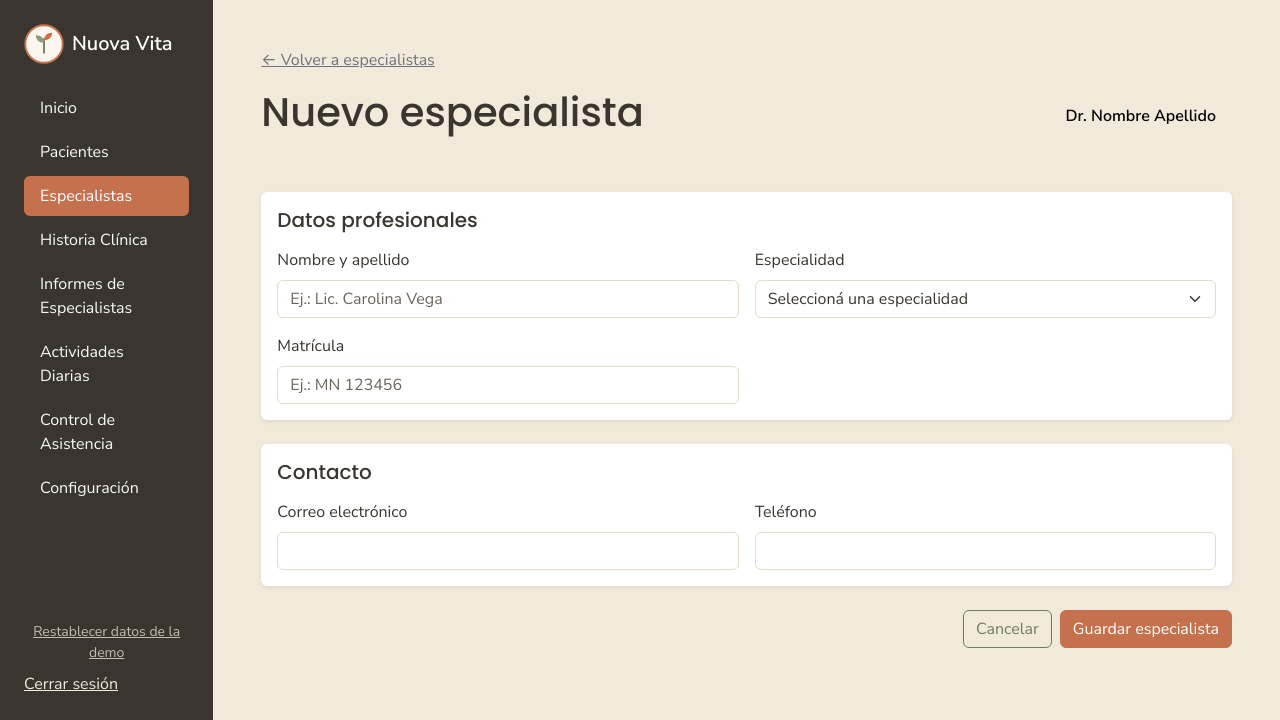
Scenario: alta de especialista › guarda el especialista (POST) normalizando matrícula y correo
Type "Lic. Sofía Paz" into the field labelled "Nombre y apellido" at [508, 299], box [277,280,739,318]
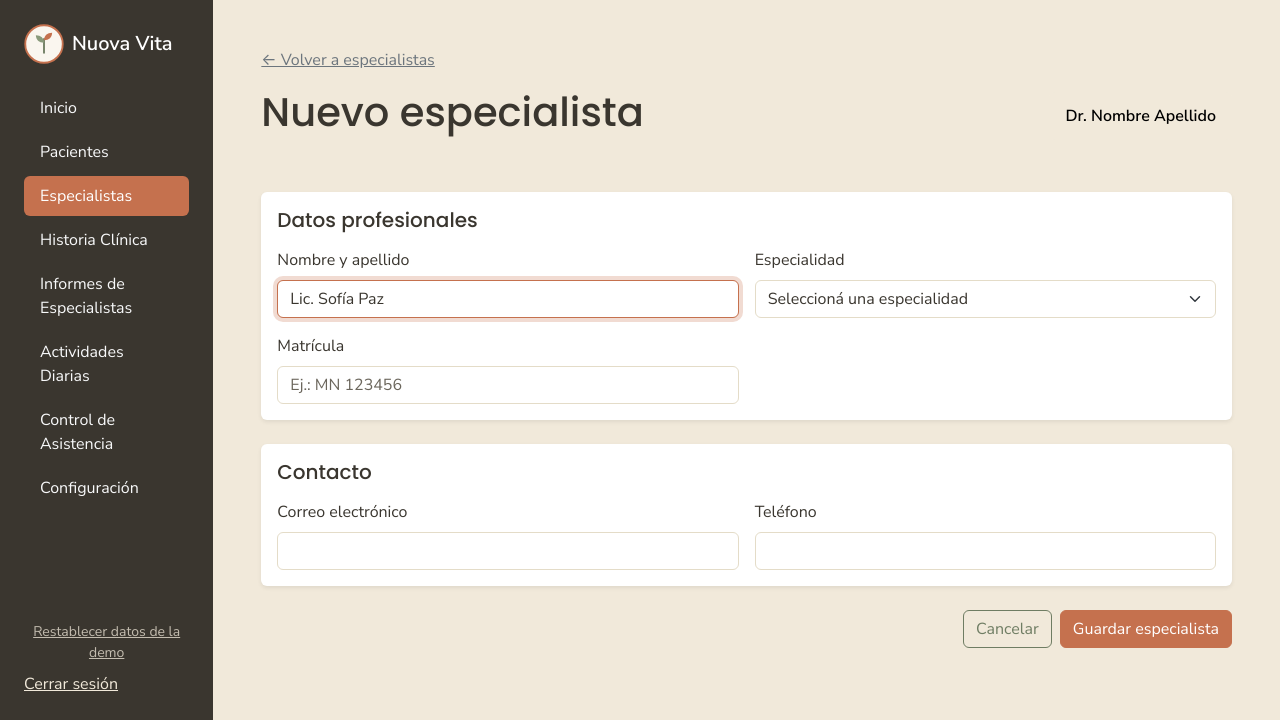
Select "Fonoaudiología" in the dropdown labelled "Especialidad" at [985, 299], box [755,280,1216,318]
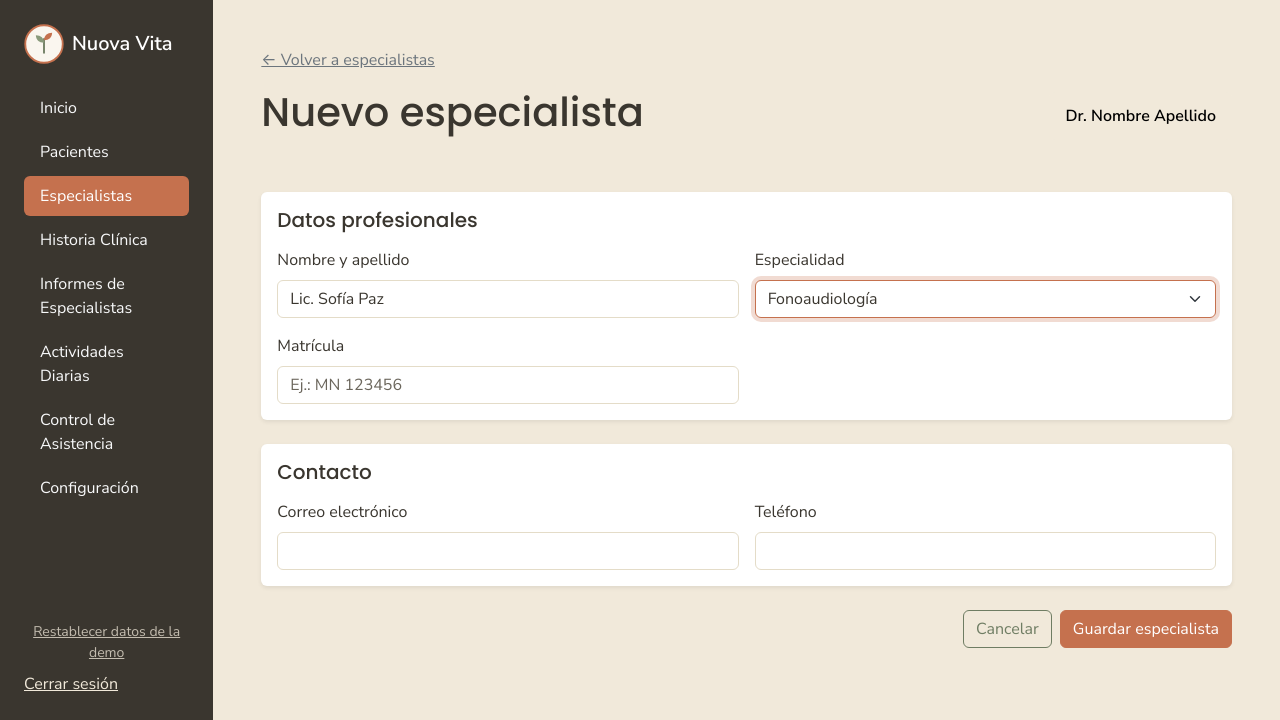
Type "mp 54321" into the field labelled "Matrícula" at [508, 385], box [277,366,739,404]
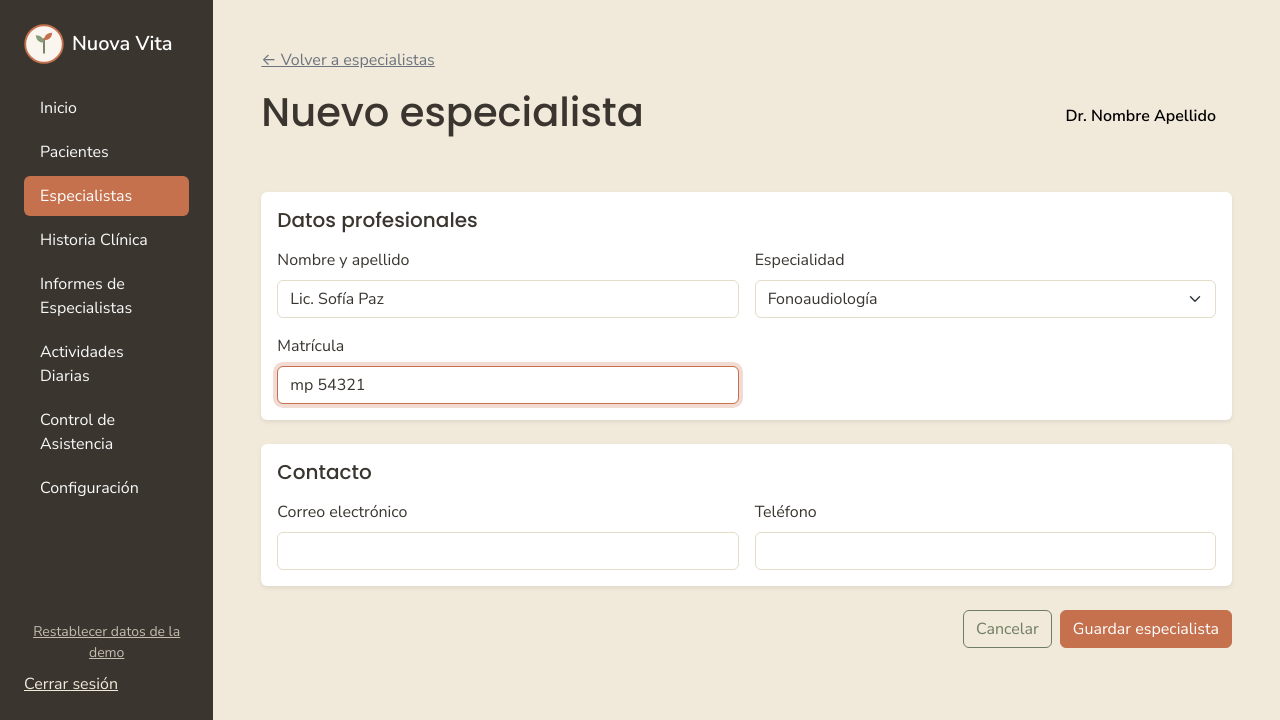
Type "SPAZ@nuovavita.com" into the field labelled "Correo electrónico" at [508, 551], box [277,532,739,570]
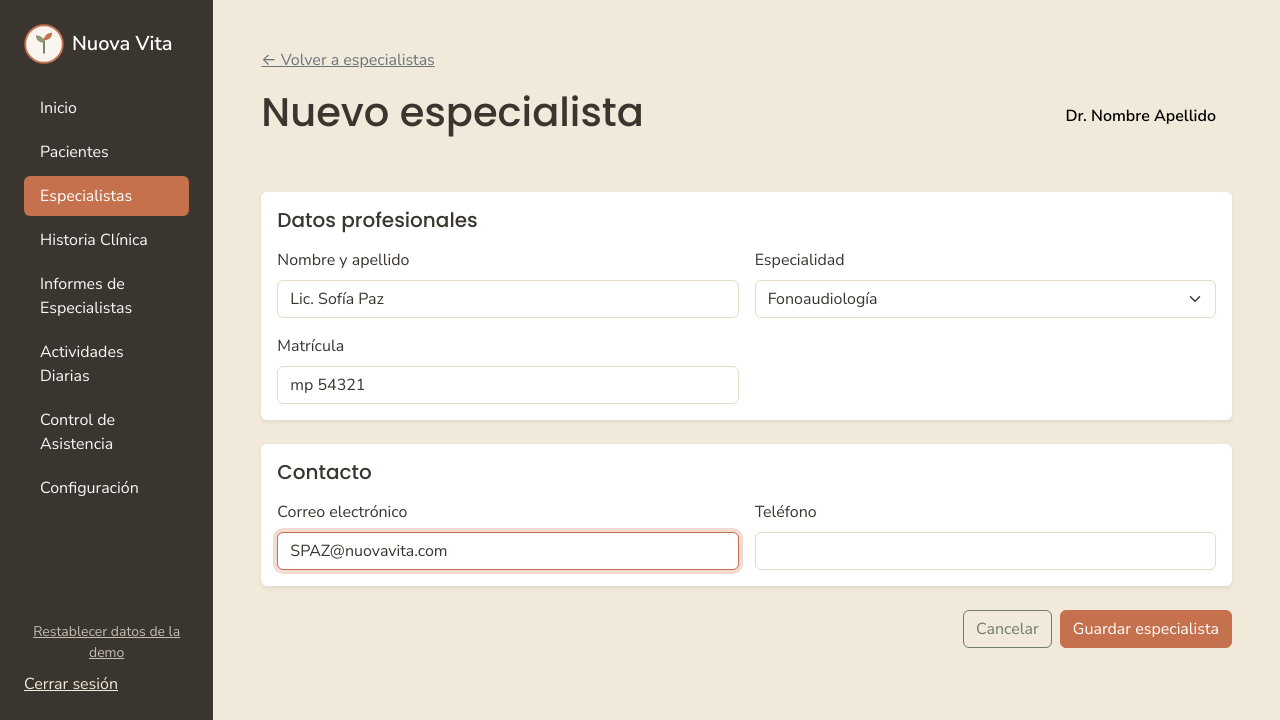
Type "11 4000-2000" into the field labelled "Teléfono" at [985, 551], box [755,532,1216,570]
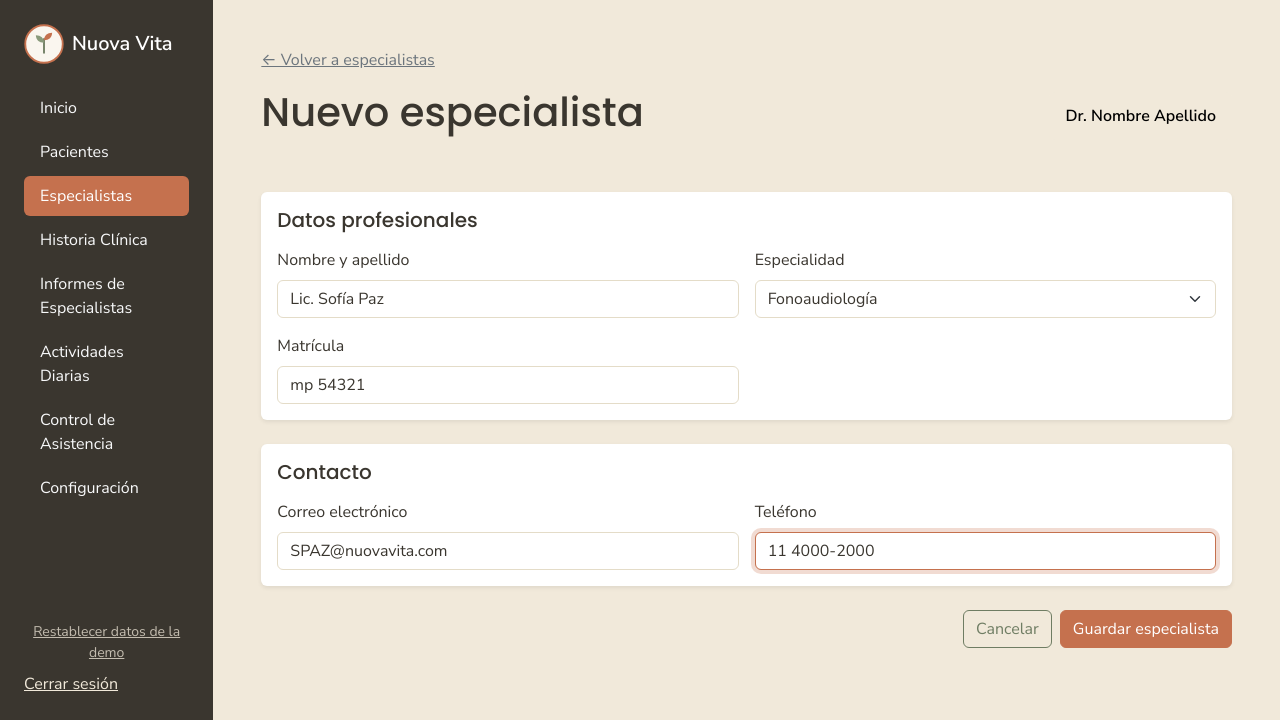
Click the button "Guardar especialista" at [1146, 629], box [1060,610,1232,648]
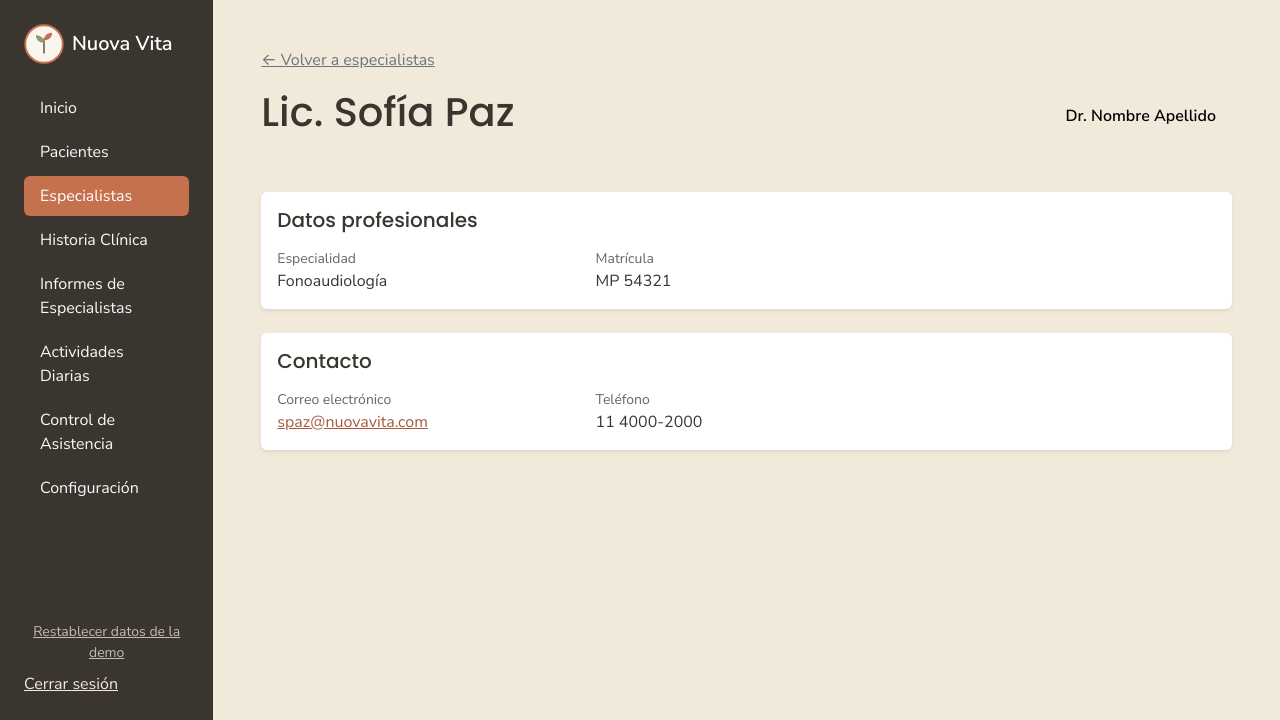
Expected: the heading "Lic. Sofía Paz" is shown, [261,88,514,136]
Expected: the text "MP 54321" is shown, [596,270,671,292]
